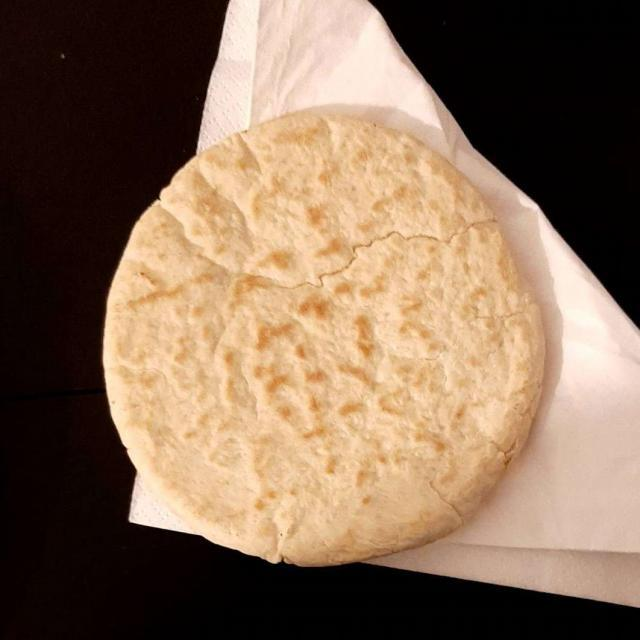bread: (112, 126, 535, 554)
